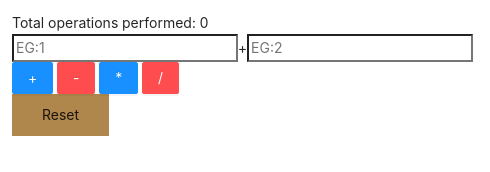
Test: + operation works
Type "10" into the number field with test id "app-input1".
click(125, 48); type("10")  # box left=12, top=34, right=238, bottom=62
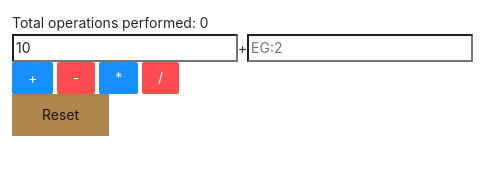
Type "5" into the number field with test id "app-input2".
click(360, 48); type("5")  # box left=247, top=34, right=473, bottom=62
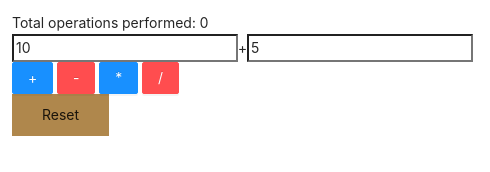
Click the button with test id "addButton".
click(33, 78)  # box left=12, top=62, right=53, bottom=94
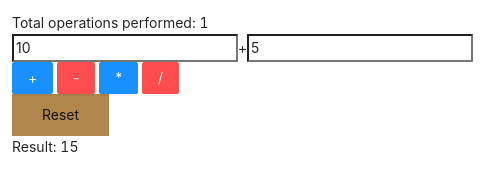
Expected: the label with test id "selected-operator" reads "+", left=238, top=39, right=247, bottom=56
Result: the text with test id "result" reads "Result: 15" at left=12, top=138, right=78, bottom=155
